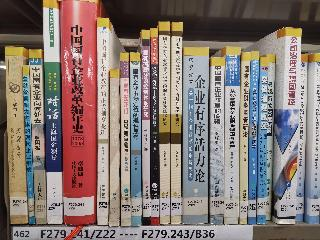book-spine: (60, 2, 97, 224), (181, 46, 210, 226), (279, 28, 301, 226), (4, 45, 28, 225), (43, 1, 62, 225), (29, 50, 48, 226), (169, 21, 184, 225), (157, 21, 171, 224), (225, 46, 240, 224), (210, 56, 225, 225), (295, 53, 310, 222), (96, 18, 108, 226), (118, 52, 132, 227), (140, 31, 152, 228), (130, 53, 143, 226), (307, 54, 320, 223), (149, 29, 160, 226), (264, 55, 277, 221), (239, 50, 251, 226), (247, 50, 259, 225), (22, 66, 35, 224), (109, 70, 121, 228), (259, 57, 269, 225)
